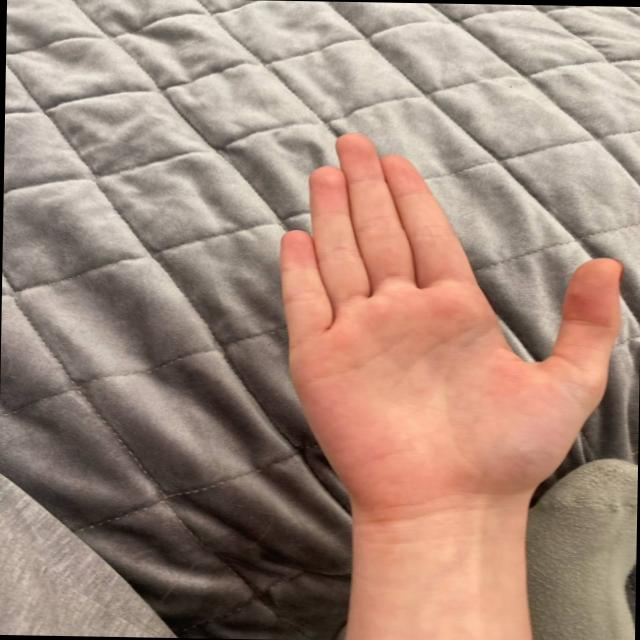v: (261, 128, 623, 494)
